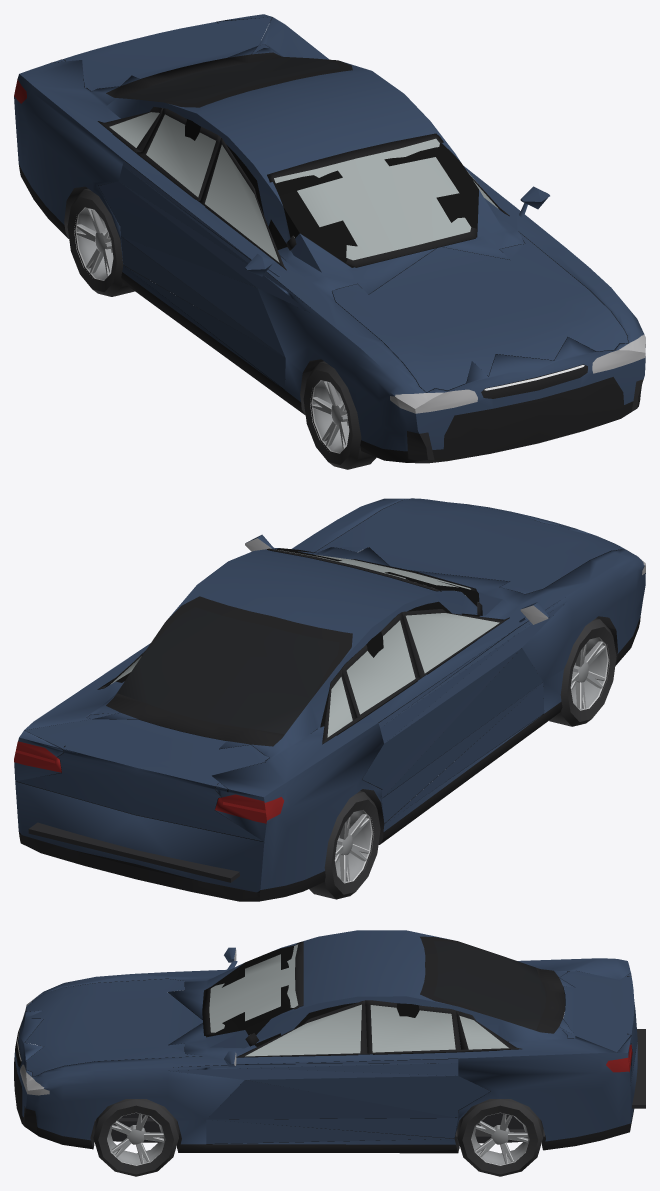
Rendered from family-sedan-2.glb.
3 renders of one model, top to bottom at view 1: azimuth 30°, elevation 25°; view 2: azimuth 150°, elevation 25°; view 3: azimuth 270°, elevation 25°, orthographic. The views are drawn at different scales.
Parts seen in each view (by area): view 1: body, bonnet_body, glass_windshield, door_FR_body, door_RR_body, boot_body, wheel_FR_mesh, wheel_RR_mesh, door_FR_glass_side_R, door_RR_glass_side_R, glass_side_R; view 2: body, boot_body, bonnet_body, door_FR_body, door_RR_body, wheel_RR_mesh, wheel_FR_mesh, door_RR_glass_side_R, door_FR_glass_side_R, bays, glass_windshield, glass_side_R; view 3: body, bonnet_body, door_FL_body, door_RL_body, boot_body, glass_windshield, wheel_RL_mesh, wheel_FL_mesh, door_FL_glass_side_L, door_RL_glass_side_L, glass_side_L, bays.
Part boxes in pixels (left/top/right/bottom): body: left=14, top=14, right=645, bottom=463; bonnet_body: left=332, top=232, right=628, bottom=392; glass_windshield: left=267, top=133, right=476, bottom=267; door_FR_body: left=121, top=168, right=310, bottom=389; door_RR_body: left=98, top=160, right=284, bottom=357; boot_body: left=52, top=17, right=272, bottom=91; wheel_FR_mesh: left=303, top=361, right=376, bottom=469; wheel_RR_mesh: left=67, top=188, right=134, bottom=296; door_FR_glass_side_R: left=195, top=135, right=286, bottom=270; door_RR_glass_side_R: left=136, top=108, right=217, bottom=198; glass_side_R: left=97, top=107, right=161, bottom=152; body: left=14, top=498, right=645, bottom=901; boot_body: left=17, top=713, right=269, bottom=841; bonnet_body: left=313, top=498, right=627, bottom=594; door_FR_body: left=383, top=597, right=566, bottom=822; door_RR_body: left=362, top=632, right=541, bottom=823; wheel_RR_mesh: left=309, top=791, right=380, bottom=899; wheel_FR_mesh: left=549, top=618, right=616, bottom=726; door_RR_glass_side_R: left=332, top=614, right=417, bottom=720; door_FR_glass_side_R: left=398, top=609, right=509, bottom=680; bays: left=28, top=810, right=239, bottom=882; glass_windshield: left=267, top=548, right=482, bottom=615; glass_side_R: left=322, top=671, right=360, bottom=744; body: left=14, top=930, right=637, bottom=1153; bonnet_body: left=25, top=979, right=204, bottom=1076; door_FL_body: left=169, top=1063, right=454, bottom=1143; door_RL_body: left=208, top=1059, right=490, bottom=1138; boot_body: left=560, top=970, right=637, bottom=1084; glass_windshield: left=202, top=941, right=303, bottom=1046; wheel_RL_mesh: left=457, top=1099, right=543, bottom=1176; wheel_FL_mesh: left=93, top=1099, right=178, bottom=1176; door_FL_glass_side_L: left=236, top=1000, right=372, bottom=1057; door_RL_glass_side_L: left=370, top=1000, right=468, bottom=1054; glass_side_L: left=458, top=1011, right=521, bottom=1051; bays: left=38, top=1006, right=645, bottom=1124.
Size of the model in its own units: 2.1 by 1.44 by 4.91.
